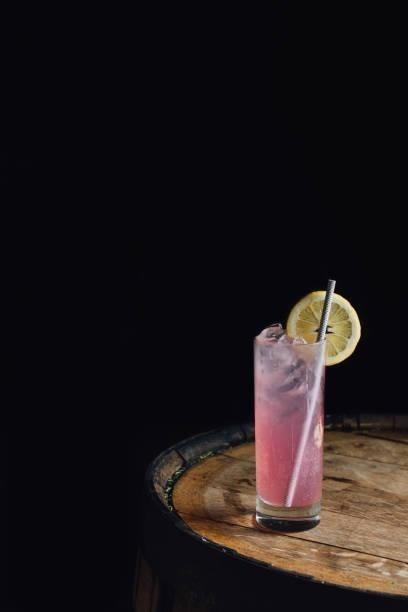glass-normal: (251, 327, 328, 533)
